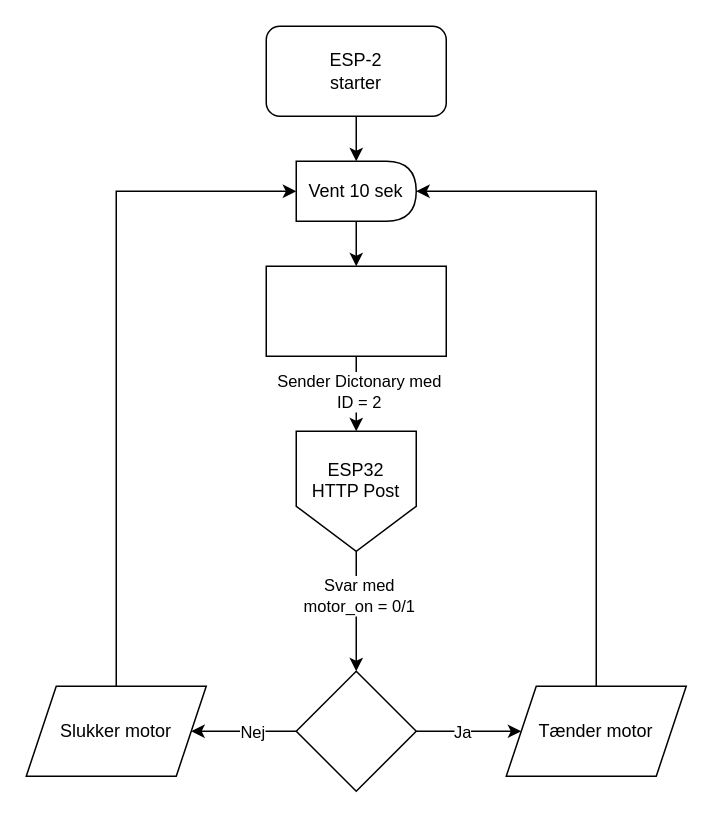
Image size: 713x818. Some labels were removed from this diagram. The centre of each missing label's shape, as x and y in pixels:
er motor_on = 1?: point 355,730
Klargør Dictonary med ID = 2: point 355,310
